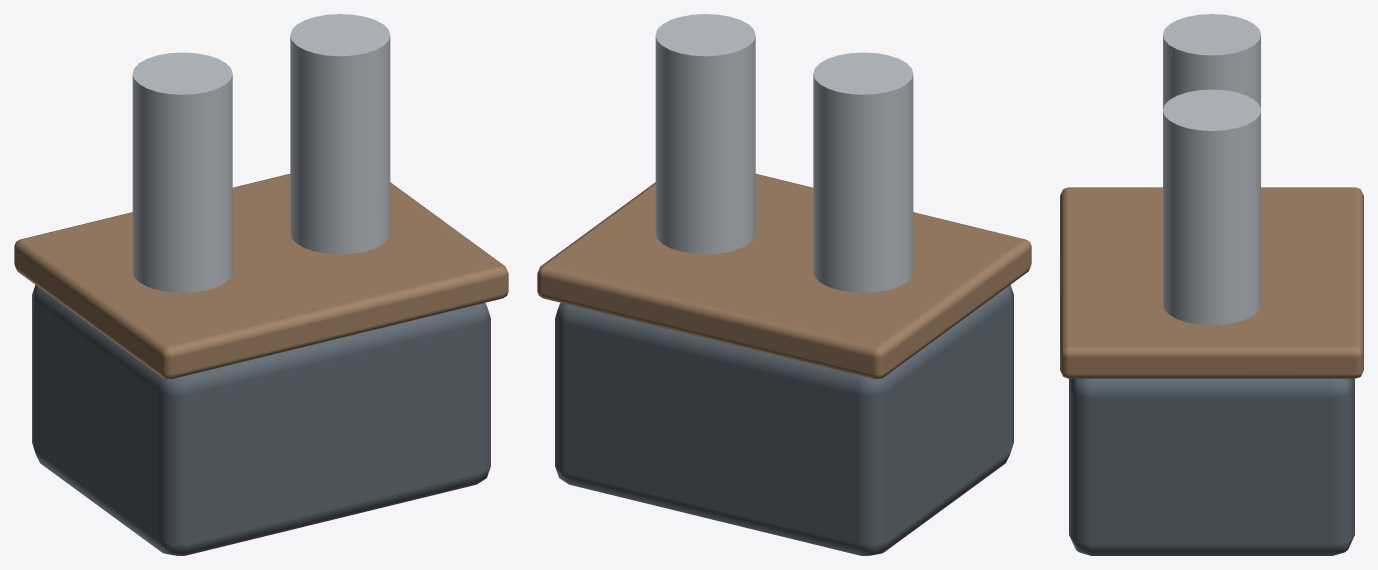
The model's file is arena-shooter-map-kit-ammo-blaster-15dad4ff__23117.glb.
3 views of the same model, side by side, from view 1: azimuth 30°, elevation 25°; view 2: azimuth 150°, elevation 25°; view 3: azimuth 270°, elevation 25° (orthographic).
Parts seen in each view (by area): view 1: ammo-blaster; view 2: ammo-blaster; view 3: ammo-blaster.
Boxes of the visible parts, x1,y1,x2,y2 form: ammo-blaster: (14, 14, 508, 555); ammo-blaster: (537, 14, 1031, 555); ammo-blaster: (1060, 14, 1363, 555).
Bounding box in the file's own units: 0.44 × 0.51 × 0.34.
